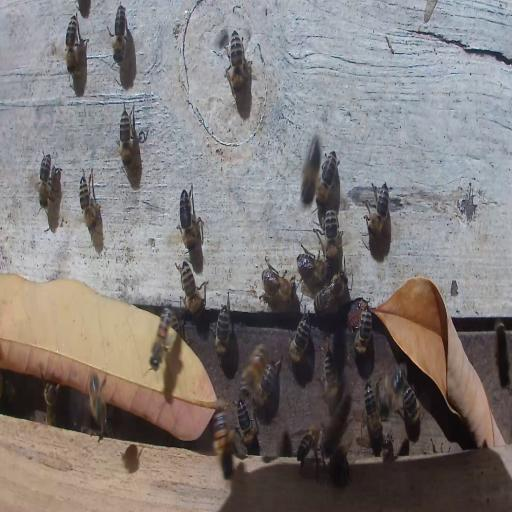nonpollenbee: (296, 423, 326, 479), (260, 264, 296, 310), (240, 343, 269, 398), (150, 306, 175, 368), (365, 180, 391, 238), (178, 260, 204, 317), (78, 166, 99, 236), (300, 134, 320, 207), (347, 296, 373, 352), (312, 272, 347, 312), (316, 149, 339, 209), (298, 242, 330, 285), (318, 208, 341, 265), (321, 343, 340, 406), (236, 398, 258, 452), (254, 359, 280, 404), (118, 106, 136, 170), (288, 312, 310, 364), (364, 380, 382, 440), (110, 3, 127, 65), (228, 30, 244, 95), (64, 13, 81, 74), (214, 300, 231, 361), (330, 440, 351, 488), (38, 150, 54, 211), (88, 369, 105, 424), (403, 384, 422, 432), (496, 320, 509, 388), (180, 186, 195, 239), (44, 380, 58, 427), (381, 430, 394, 463)
pollenbee: (212, 408, 237, 479), (378, 358, 406, 418)
